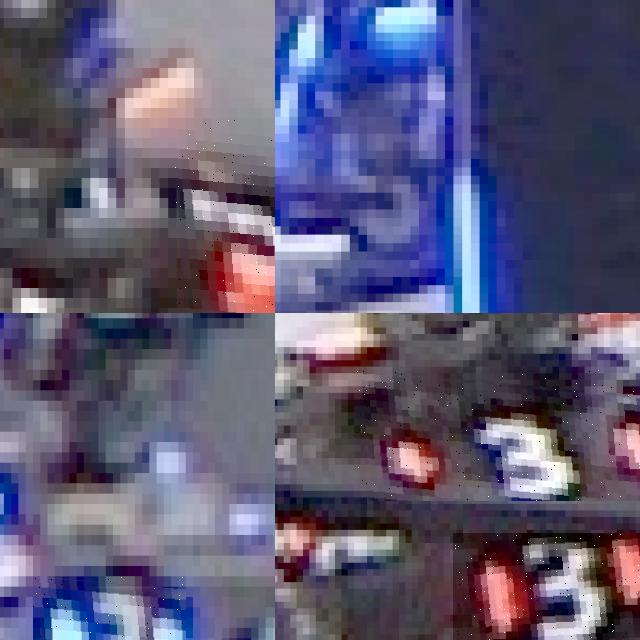B3: (33, 576, 185, 640)
R3: (357, 370, 640, 500), (168, 118, 275, 313), (453, 533, 640, 640)
